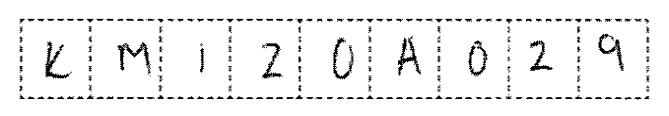0: (324, 33, 358, 86), (460, 36, 495, 80)
1: (186, 40, 217, 77)
2: (253, 36, 289, 86), (520, 35, 558, 79)
9: (590, 28, 633, 80)
A: (392, 32, 426, 82)
K: (38, 36, 74, 86)
M: (111, 38, 156, 80)
